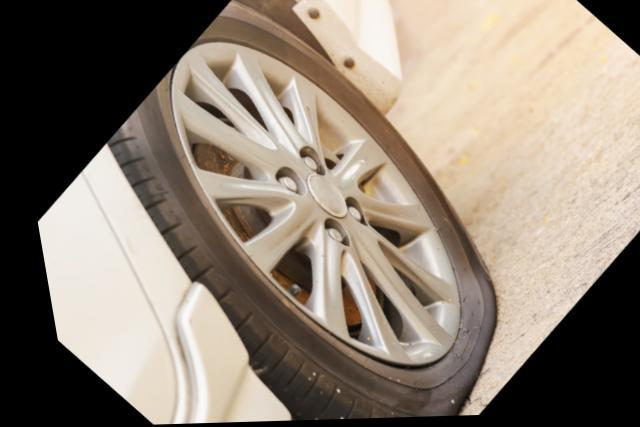tire flat: (101, 0, 484, 422)
